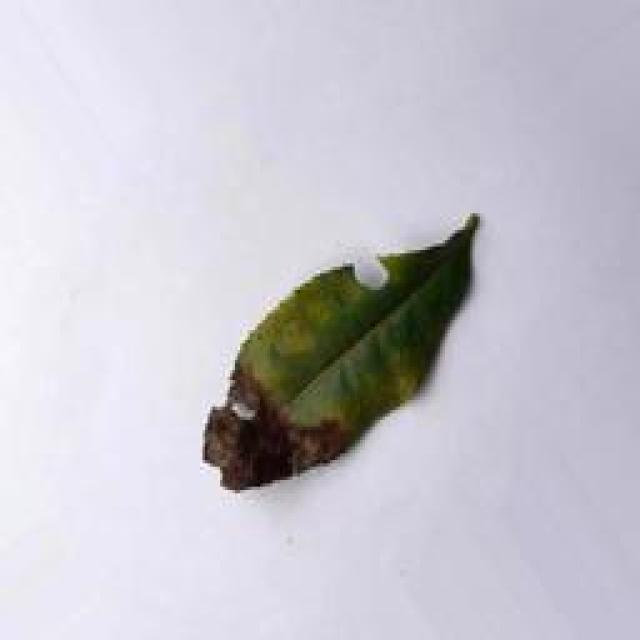Brown Blight: (180, 193, 494, 519)
